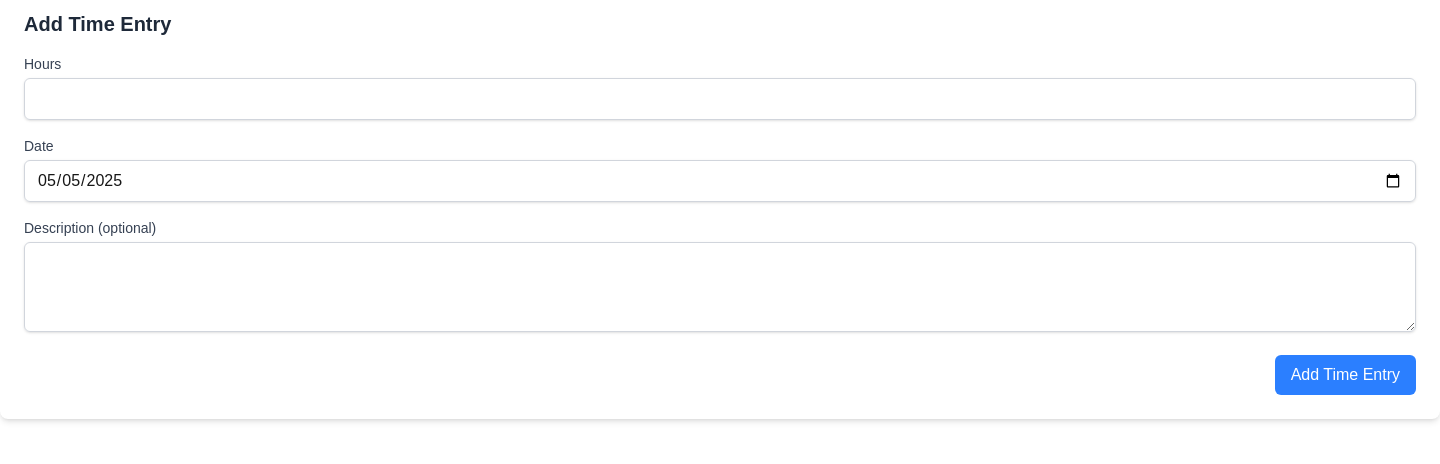
it: TimeEntryForm › displays error when date is cleared
Step 1. Type "5" into the number field labelled "Hours" → x=720, y=99, box [24,78,1416,120]
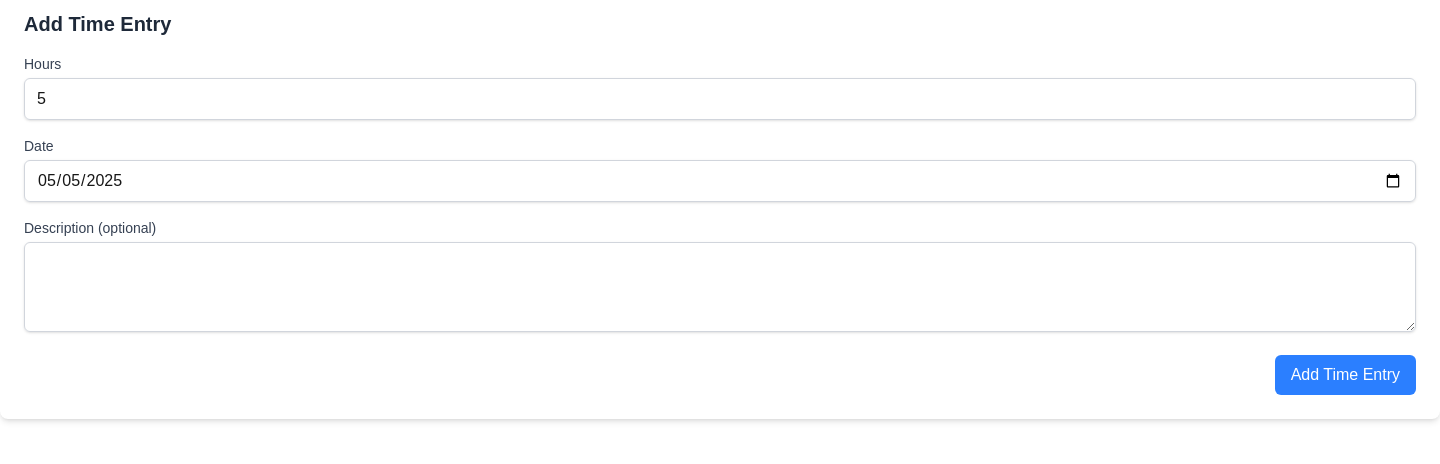
// Clear the date field
Step 2. Clear the date field labelled "Date" → x=720, y=181, box [24,160,1416,202]
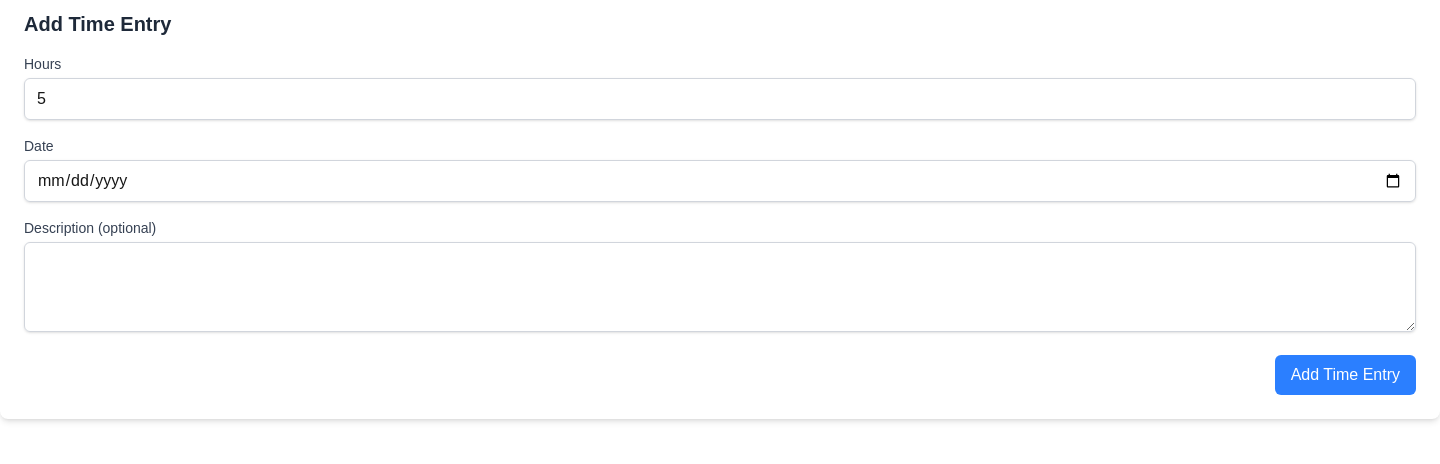
Step 3. Submit the form with test id "time-entry-form"
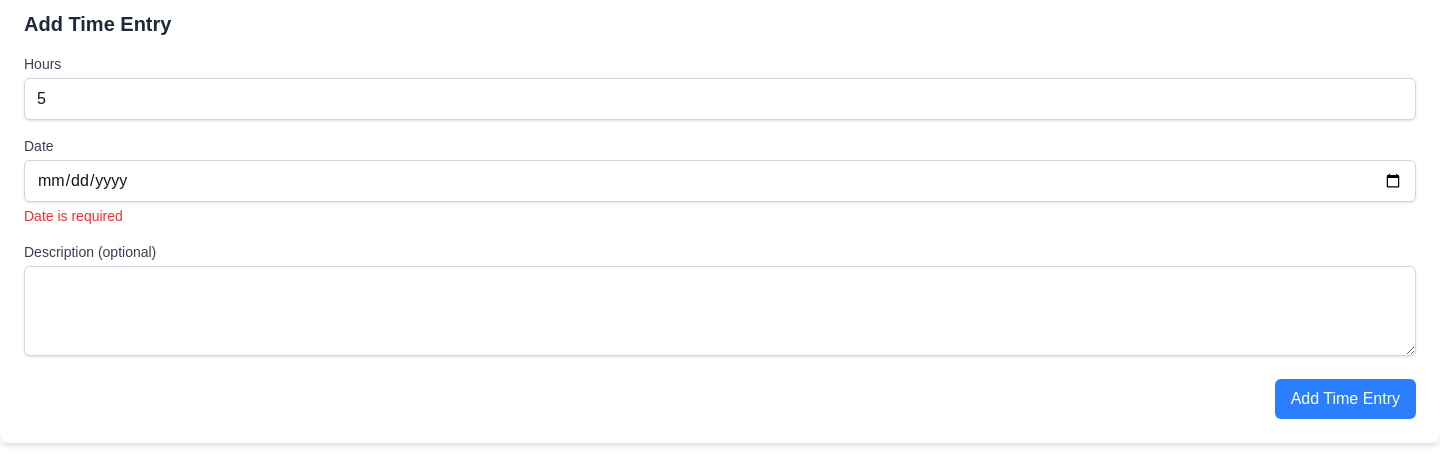
Expected: the text "Date is required" is shown, [24,208,123,224]
